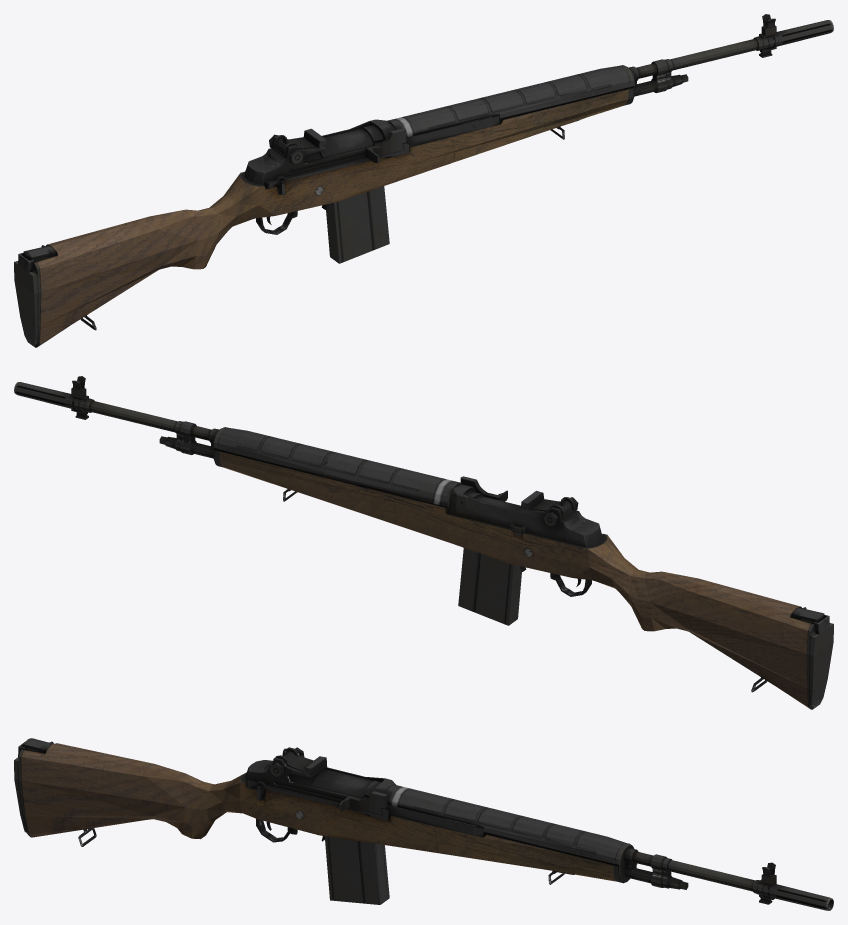
The picture shows the model from 3 angles, top to bottom: view 1: azimuth 30°, elevation 25°; view 2: azimuth 150°, elevation 25°; view 3: azimuth 330°, elevation 25°; orthographic projection.
Visible parts, largest first — view 1: rdmobj00; view 2: rdmobj00; view 3: rdmobj00.
Part boxes in pixels (<box>): rdmobj00: <box>14,14,833,347</box>; rdmobj00: <box>14,376,833,709</box>; rdmobj00: <box>14,738,833,910</box>.
Bounding box in the file's own units: 118 × 21.02 × 7.7.
Materials: 1 (1 with a texture image).
